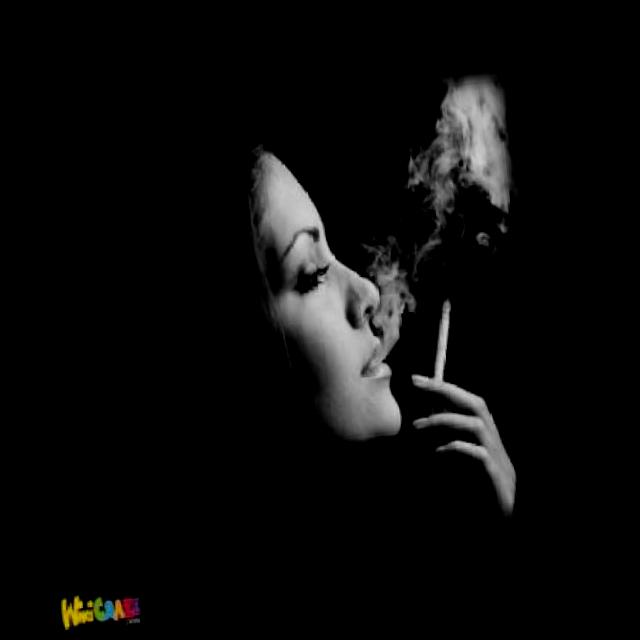cigarette: (412, 276, 474, 411)
